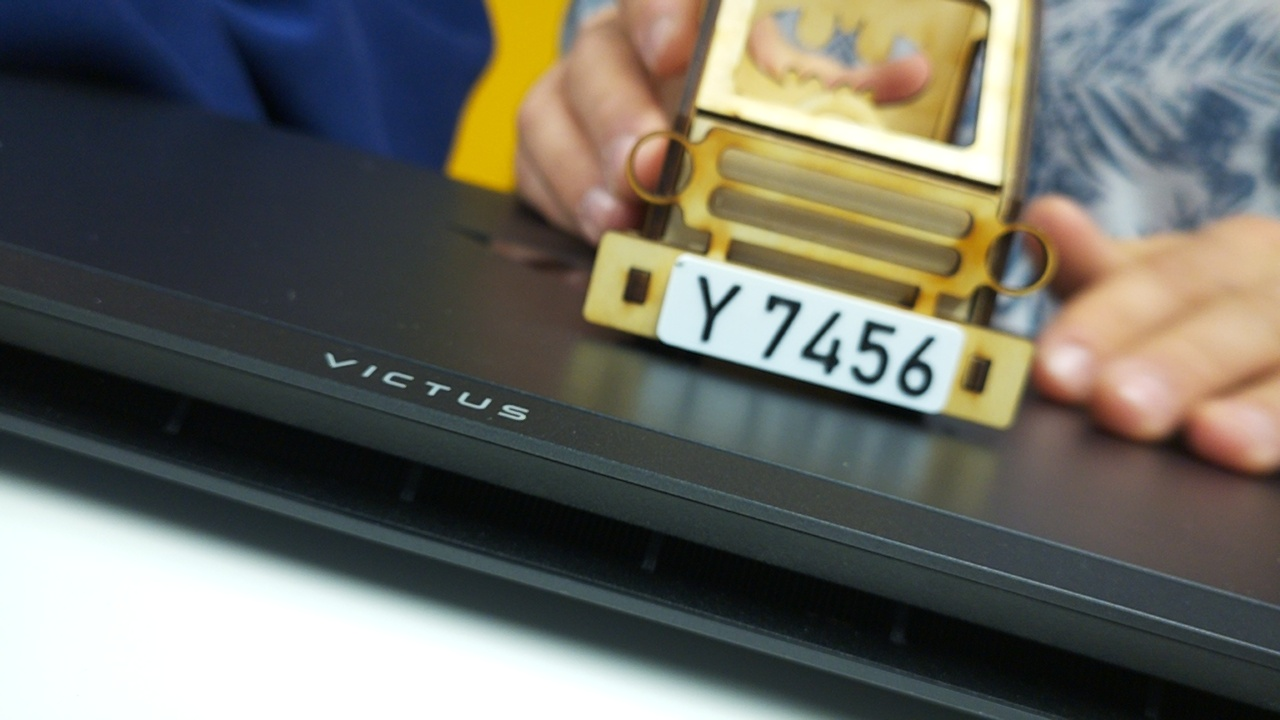license_plate: (653, 249, 968, 416)
